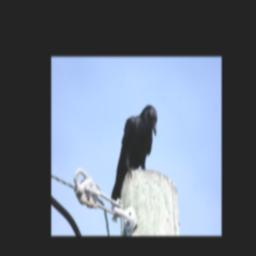Crow: (110, 105, 158, 206)
